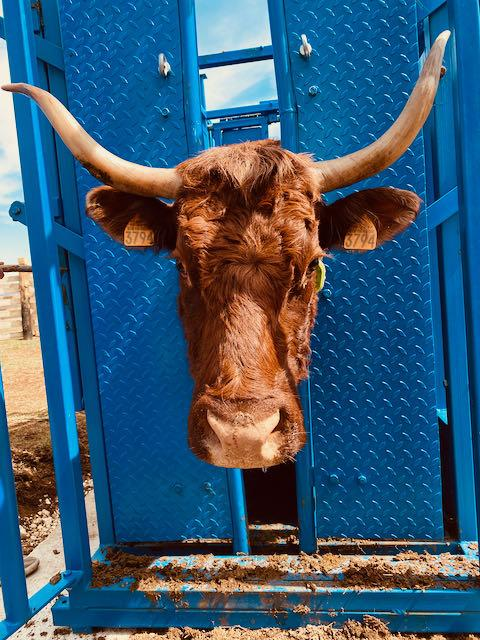muzzles: (181, 400, 307, 474)
